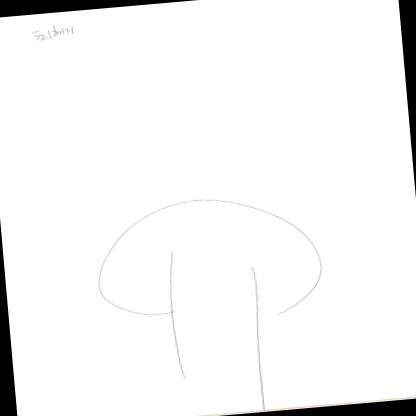crown_mushroom: (84, 183, 330, 335)
trunk_straight: (166, 306, 273, 382)
